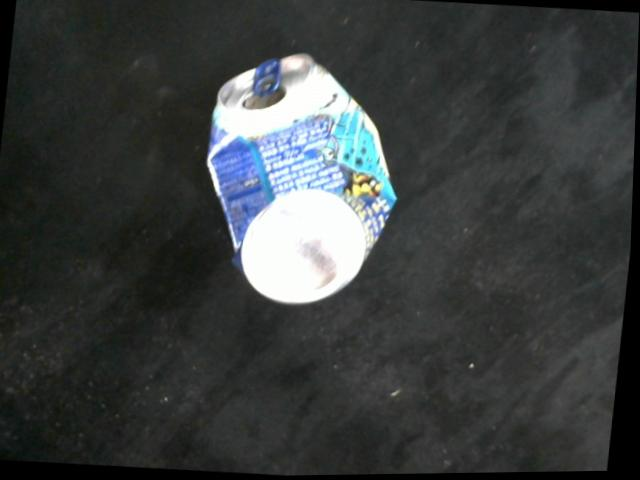can: (207, 55, 405, 304)
